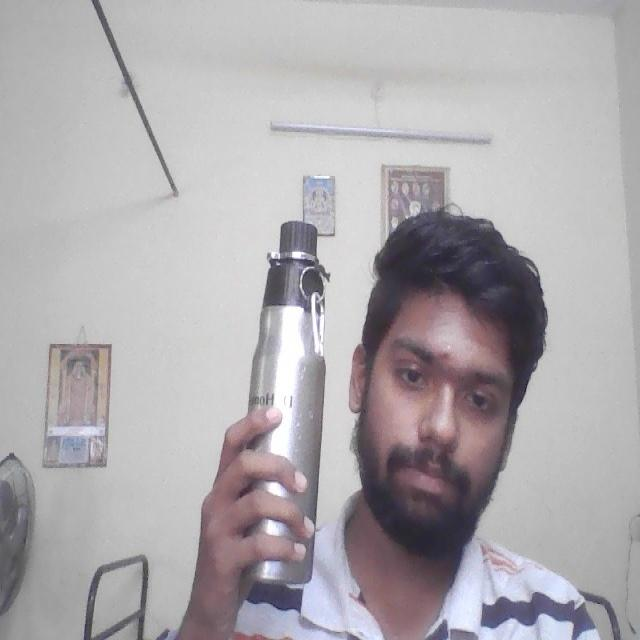Drinking: (246, 211, 335, 584)
